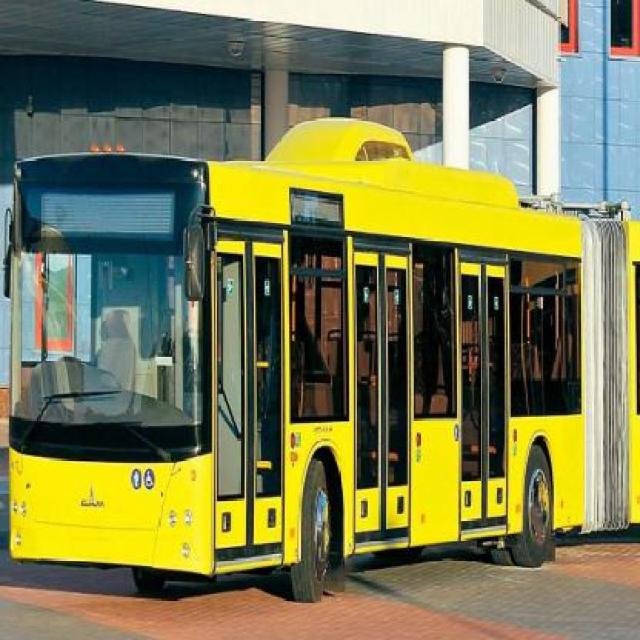bus: (7, 114, 640, 603)
